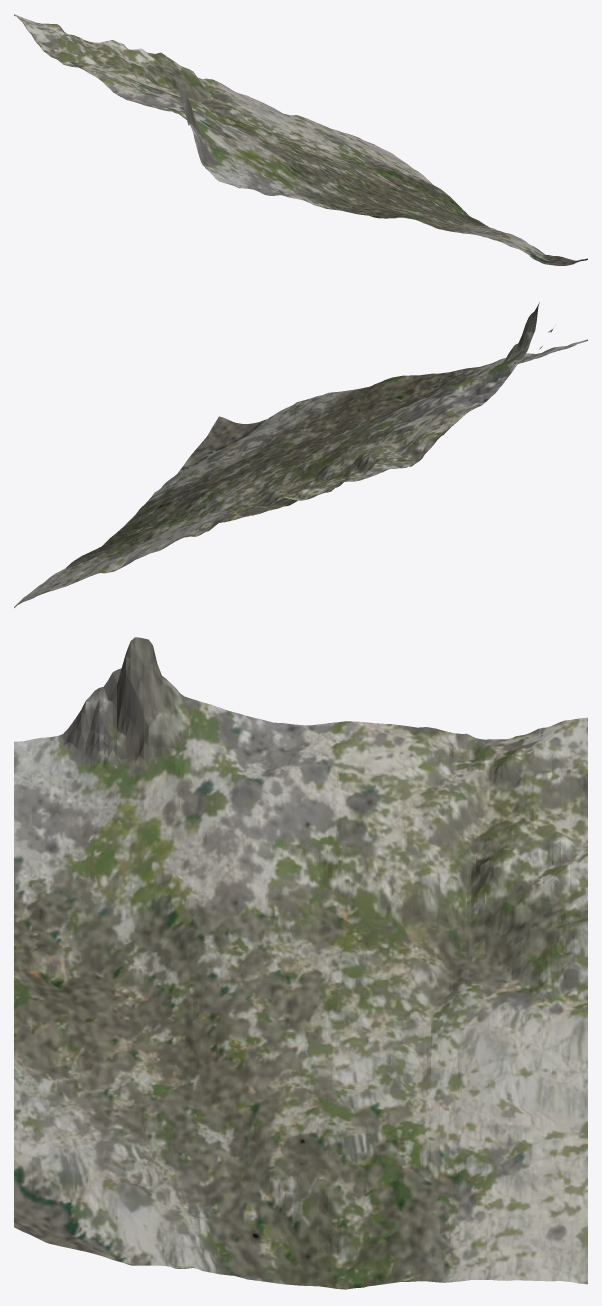
3 views of the same model, one above another, from view 1: azimuth 30°, elevation 25°; view 2: azimuth 150°, elevation 25°; view 3: azimuth 270°, elevation 25° (orthographic). The views are drawn at different scales.
Size of the model in its own units: 250 by 186 by 241.
1 material, 1 textured.
